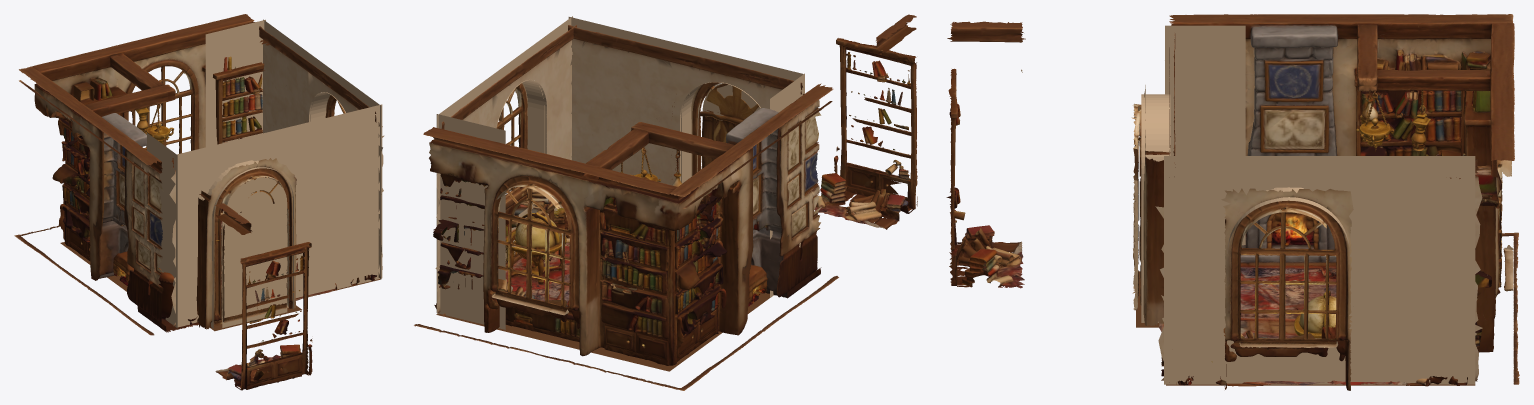
File: study_room.glb
3 views of the same model, side by side, from view 1: azimuth 30°, elevation 25°; view 2: azimuth 150°, elevation 25°; view 3: azimuth 270°, elevation 25° (orthographic). The views are drawn at different scales.
Bounding box in the file's own units: 1.83 × 1.2 × 2.67.
1 material, 1 textured.
